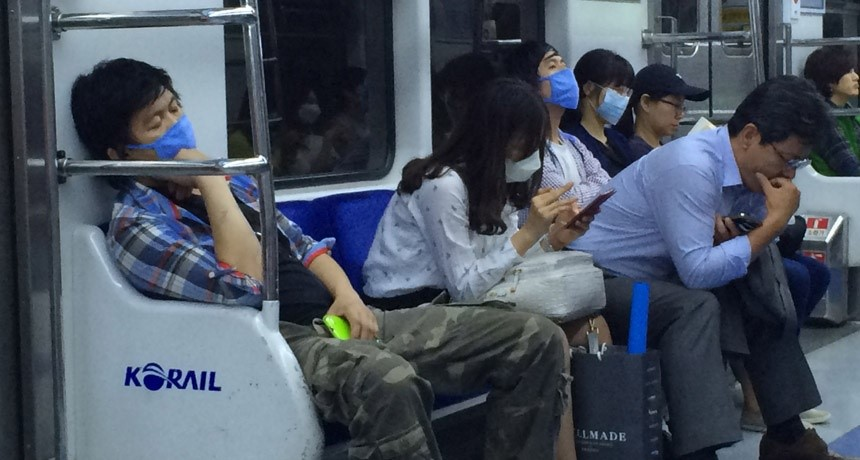face_no_mask: (736, 81, 820, 199), (809, 44, 858, 99)
face_with_mask: (79, 66, 200, 162), (472, 109, 549, 188), (518, 44, 582, 113), (581, 54, 636, 132)
